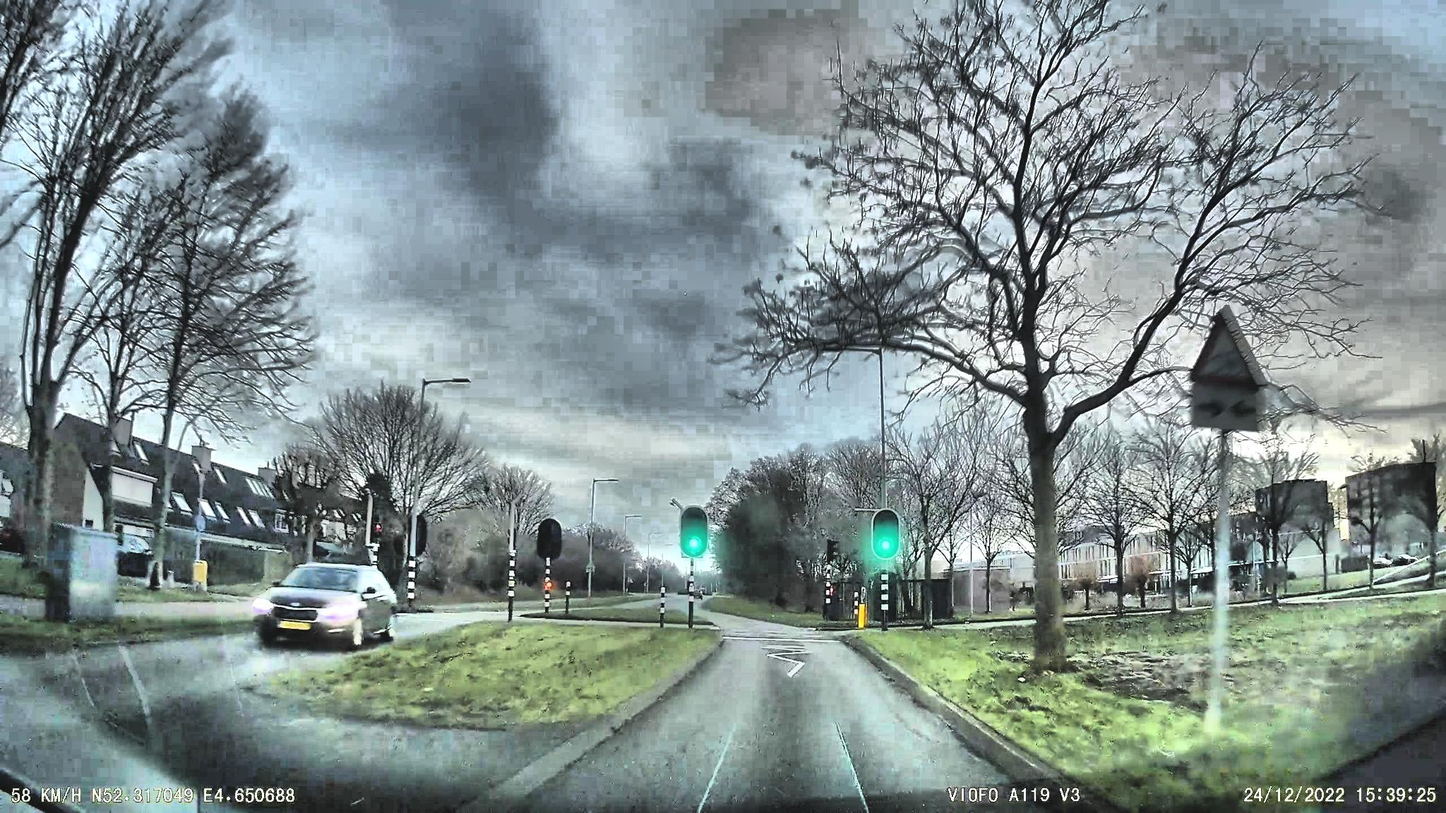Roads: (460, 614, 1113, 813)
